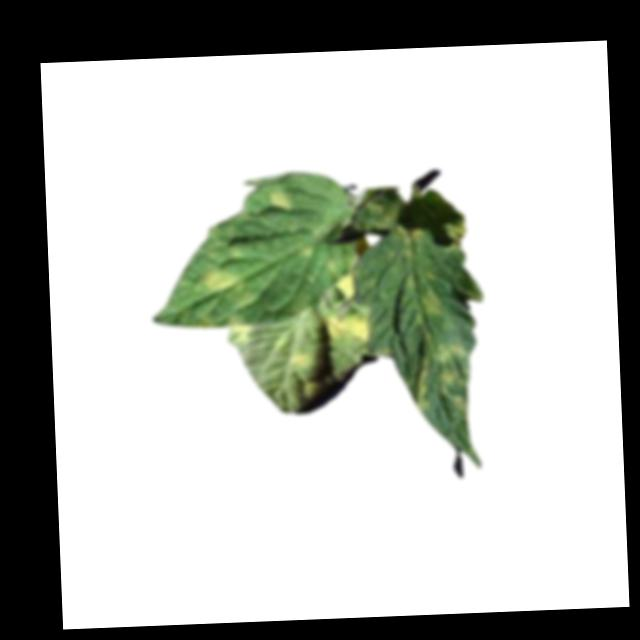Leaf_Mold: (412, 331, 474, 419), (196, 268, 256, 308), (321, 308, 375, 351), (418, 284, 444, 319), (330, 272, 360, 301), (265, 186, 293, 215), (227, 322, 255, 349), (289, 350, 312, 373)
